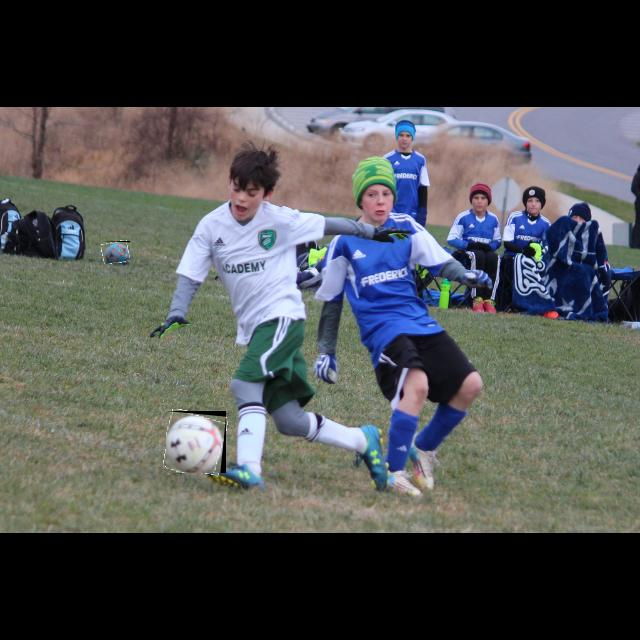Football: (166, 411, 226, 473), (102, 241, 130, 263)
